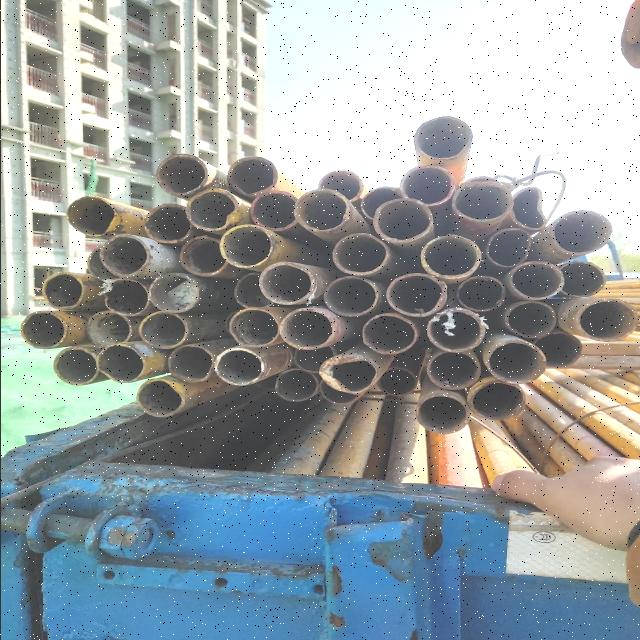pipe: (414, 225, 484, 281), (452, 172, 512, 232), (462, 382, 534, 430), (422, 306, 492, 354), (552, 204, 616, 254), (416, 109, 474, 164), (374, 192, 434, 244), (382, 268, 442, 320), (422, 342, 484, 392), (258, 259, 320, 309), (290, 184, 348, 236), (154, 145, 212, 196), (484, 339, 548, 385), (416, 391, 470, 445), (574, 298, 640, 342), (502, 296, 558, 346), (276, 305, 336, 351), (507, 255, 562, 305), (216, 224, 272, 272), (178, 230, 234, 278), (318, 353, 378, 397), (321, 275, 381, 319), (331, 230, 388, 276), (184, 186, 242, 231), (47, 342, 99, 392), (211, 348, 267, 394), (401, 160, 455, 207), (132, 379, 186, 425), (360, 313, 416, 357), (65, 193, 116, 240), (534, 331, 588, 375), (96, 233, 150, 277), (136, 307, 192, 349), (452, 273, 507, 315), (225, 308, 282, 348), (168, 338, 215, 385), (228, 152, 276, 198), (96, 342, 148, 384), (98, 276, 152, 316), (38, 268, 86, 312), (84, 307, 132, 350), (251, 190, 297, 234), (358, 181, 410, 219), (269, 367, 319, 406), (488, 227, 534, 269), (148, 272, 196, 312), (18, 310, 66, 350), (228, 270, 272, 312), (558, 260, 608, 296), (510, 184, 546, 234), (318, 167, 361, 205), (376, 368, 421, 404), (288, 344, 336, 374), (318, 380, 362, 408)
